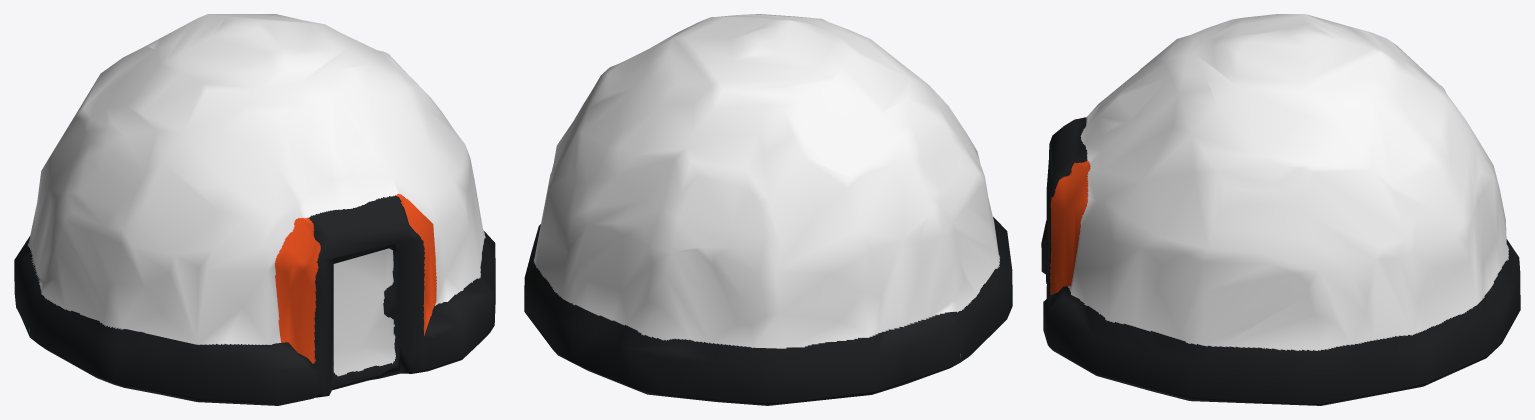
Rendered from dome_base.glb.
3 renders of one model, left to right at view 1: azimuth 30°, elevation 25°; view 2: azimuth 150°, elevation 25°; view 3: azimuth 270°, elevation 25°, orthographic.
Parts seen in each view (by area): view 1: BakeLow; view 2: BakeLow; view 3: BakeLow.
Boxes of the visible parts, <box> form: BakeLow: <box>14,14,495,405</box>; BakeLow: <box>524,14,1012,405</box>; BakeLow: <box>1041,14,1520,405</box>.
Size of the model in its own units: 1.6 by 1.01 by 1.58.
Materials: 1 (1 with a texture image).
